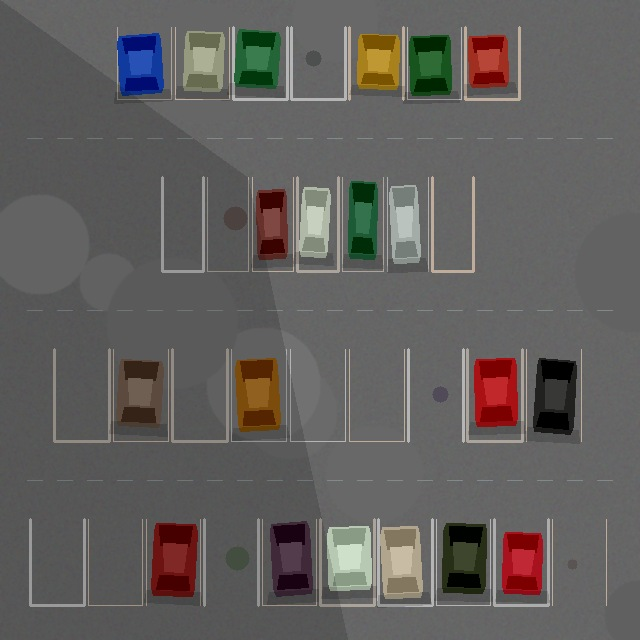space-empty: (54, 349, 109, 441), (172, 349, 227, 441), (290, 349, 345, 441), (349, 349, 404, 441), (408, 349, 463, 441), (30, 519, 84, 605), (88, 519, 142, 605), (204, 519, 258, 605), (552, 519, 606, 605), (291, 27, 345, 99), (162, 177, 203, 271), (207, 177, 248, 271), (432, 177, 473, 271)
space-occupied: (113, 349, 168, 441), (231, 349, 286, 441), (467, 349, 522, 441), (526, 349, 581, 441), (146, 519, 200, 605), (262, 519, 316, 605), (320, 519, 374, 605), (378, 519, 432, 605), (436, 519, 490, 605), (494, 519, 548, 605), (117, 27, 171, 99), (175, 27, 229, 99), (233, 27, 287, 99), (349, 27, 403, 99), (407, 27, 461, 99), (465, 27, 519, 99), (252, 177, 293, 271), (297, 177, 338, 271), (342, 177, 383, 271), (387, 177, 428, 271)
